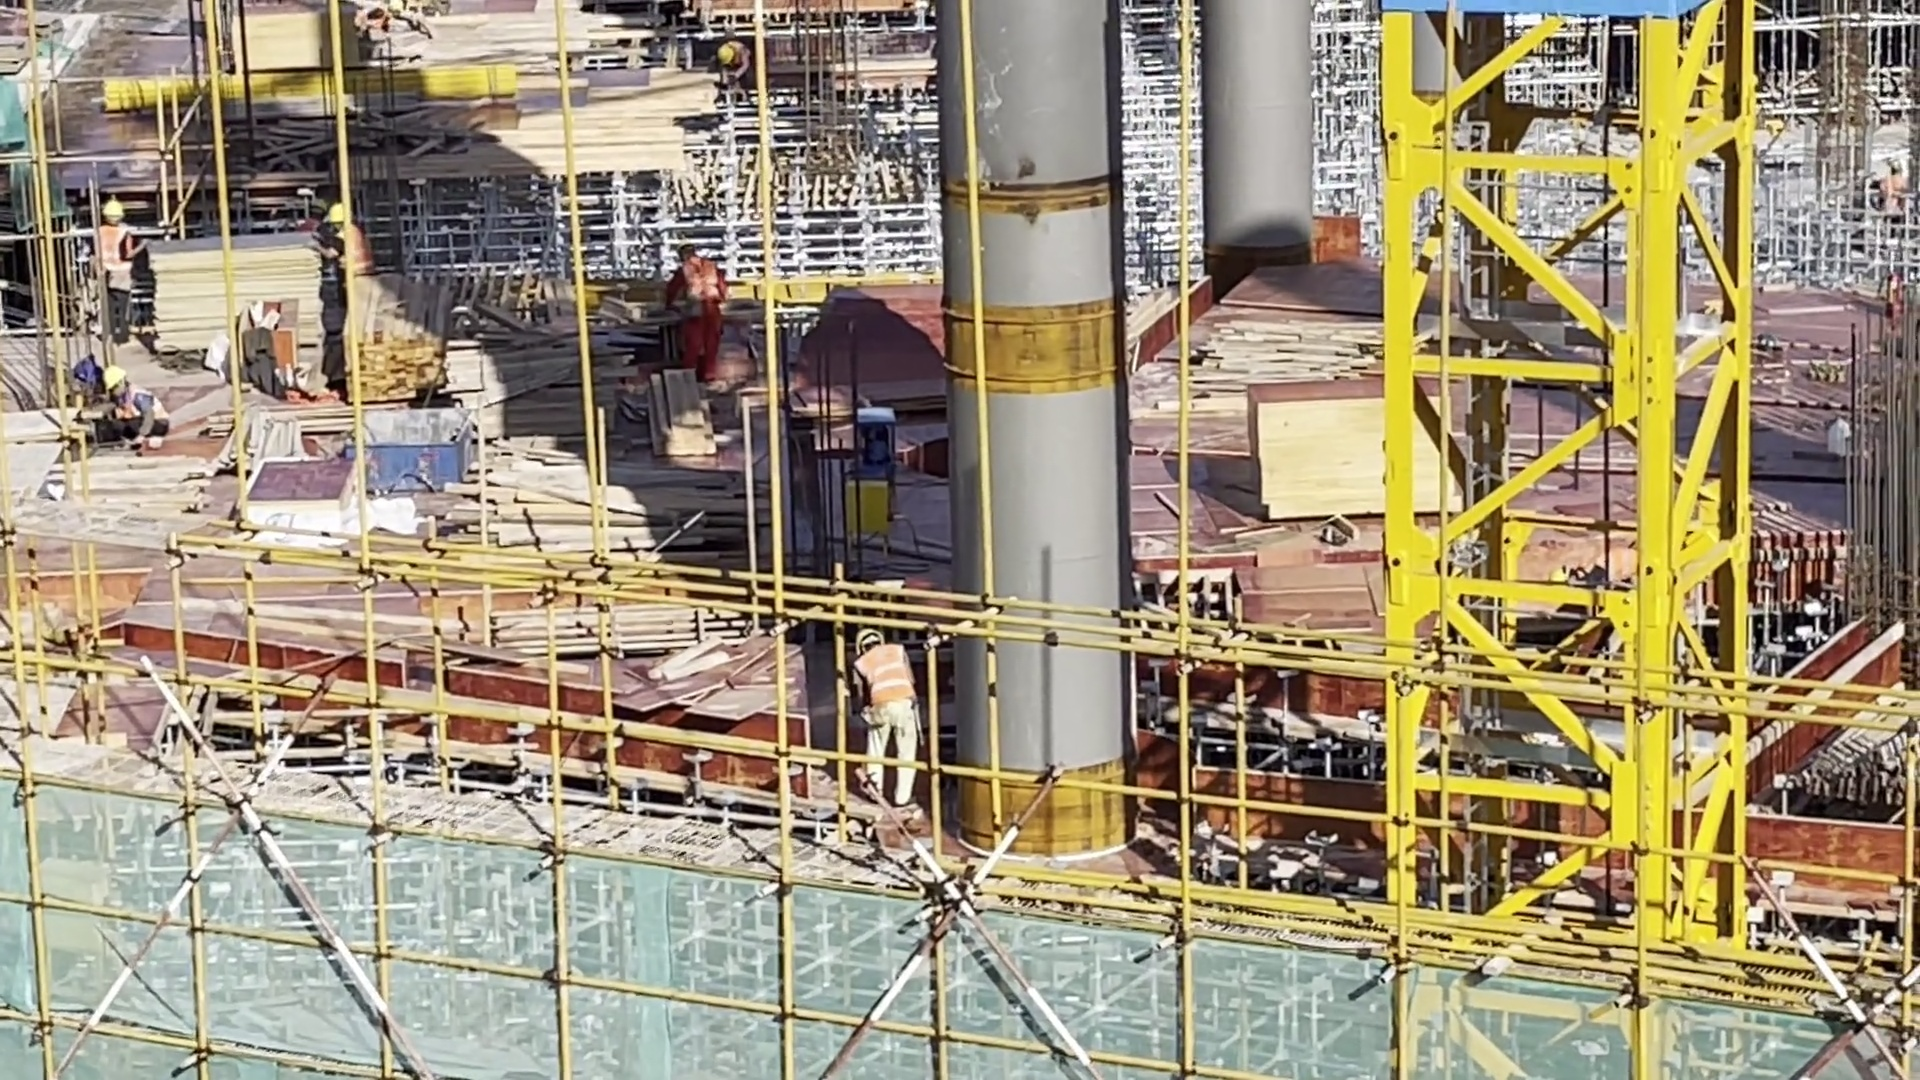helmet: (851, 626, 889, 662), (98, 201, 128, 227), (313, 206, 349, 226), (719, 42, 738, 71), (99, 371, 119, 397), (1557, 562, 1575, 589), (668, 234, 689, 252)
person: (838, 618, 936, 810), (1561, 511, 1648, 686), (98, 357, 195, 447), (671, 233, 721, 378), (95, 193, 143, 341), (1884, 142, 1919, 227), (343, 199, 377, 281), (711, 33, 757, 89), (1882, 266, 1906, 334), (300, 191, 332, 234)
vest: (849, 646, 926, 724), (106, 376, 163, 424), (1593, 547, 1644, 599), (668, 254, 708, 312), (106, 224, 136, 281), (344, 223, 375, 273), (726, 39, 753, 78), (1885, 277, 1901, 312), (1885, 176, 1907, 192)
